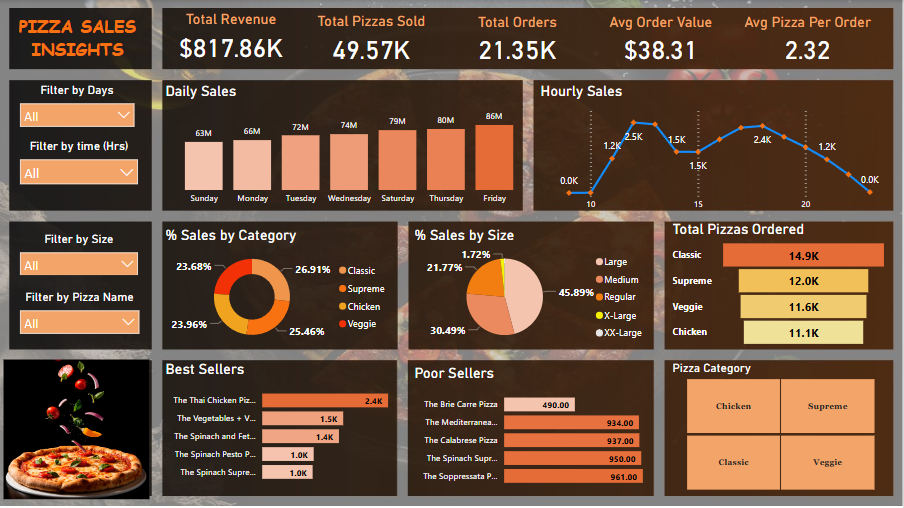

What the dashboard file says about the page in this screenshot:
{"tool":"powerbi","page":{"name":"Page 1","canvas":[1280,720],"ordinal":0},"visuals":[{"type":"card","title":"Total Revenue","fields":{"Values":["Sum(pizza_sales.total_price)"]},"box":[244,16,170,76],"z":0},{"type":"card","title":"Total Orders","fields":{"Values":["Count(pizza_sales.order_id)"]},"box":[641,20,188,72],"z":1000},{"type":"card","title":"Avg Order Value","fields":{"Values":["pizza_sales.Average_Order_Value"]},"box":[851.5,20,172,72],"z":2000},{"type":"card","title":"Total Pizzas Sold","fields":{"Values":["Sum(pizza_sales.quantity)"]},"box":[436.5,18,182,74],"z":3000},{"type":"card","title":"Avg Pizza Per Order","fields":{"Values":["pizza_sales.Average_Pizza_Per_Order"]},"box":[1046,20,200,72],"z":4000},{"type":"textbox","box":[14,16,194,76],"z":5000},{"type":"clusteredColumnChart","title":"Daily Sales","fields":{"Y":["Sum(pizza_sales.order_id)"],"Category":["pizza_sales.order_day"]},"box":[231.7,118.3,531.7,181.7],"z":6000},{"type":"lineChart","title":"Hourly Sales ","fields":{"Category":["pizza_sales.Hour"],"Y2":["Count(pizza_sales.order_id)"]},"box":[762.5,117.6,517.3,189.9],"z":7000},{"type":"slicer","title":"Filter by Days","fields":{"Values":["pizza_sales.order_day"]},"box":[20,118.3,181.7,61.7],"z":8000},{"type":"slicer","title":"Filter by time (Hrs)","fields":{"Values":["pizza_sales.Hour"]},"box":[20,196.7,186.7,91.7],"z":9000},{"type":"donutChart","title":"% Sales by Category","fields":{"Category":["pizza_sales.pizza_category"],"Y":["Sum(pizza_sales.total_price)"]},"box":[231.7,321.7,330,175],"z":10000},{"type":"pieChart","title":"% Sales by Size","fields":{"Y":["Sum(pizza_sales.total_price)"],"Category":["pizza_sales.pizza_size"]},"box":[583.3,321.7,341.7,175],"z":11000},{"type":"funnel","title":"Total Pizzas Ordered","fields":{"Category":["pizza_sales.pizza_category"],"Y":["Sum(pizza_sales.quantity)"]},"box":[949.6,313.2,314.6,182.8],"z":12000},{"type":"barChart","title":"Best Sellers","fields":{"Category":["pizza_sales.pizza_name"],"Y":["Sum(pizza_sales.quantity)"]},"box":[231,511.7,372.8,182.8],"z":13000},{"type":"slicer","title":"Pizza Category","fields":{"Values":["pizza_sales.pizza_category"]},"box":[949.6,511.7,314.6,188.5],"z":14000},{"type":"barChart","title":"Poor Sellers","fields":{"Category":["pizza_sales.pizza_name"],"Y":["Sum(pizza_sales.quantity)"]},"box":[583.9,517.3,341.6,182.8],"z":15000},{"type":"slicer","title":"Filter by Pizza Name","fields":{"Values":["pizza_sales.pizza_name"]},"box":[19.8,411,188.5,85],"z":16000},{"type":"slicer","title":"Filter by Size","fields":{"Values":["pizza_sales.pizza_size"]},"box":[19.8,328.8,187.1,60.9],"z":17000},{"type":"image","box":[1.4,504.6,216.9,208.3],"z":17001}]}

Visuals, with their boxes in screenshot pixels (x1, y1, x2, y2), scaled from the page's 1280x720 canvas onto the 904x508 screenshot:
"Total Revenue" card: pyautogui.locateOnScreen(172, 11, 292, 65)
"Total Orders" card: pyautogui.locateOnScreen(453, 14, 585, 65)
"Avg Order Value" card: pyautogui.locateOnScreen(601, 14, 723, 65)
"Total Pizzas Sold" card: pyautogui.locateOnScreen(308, 13, 437, 65)
"Avg Pizza Per Order" card: pyautogui.locateOnScreen(739, 14, 880, 65)
textbox: pyautogui.locateOnScreen(10, 11, 147, 65)
"Daily Sales" clusteredColumnChart: pyautogui.locateOnScreen(164, 83, 539, 212)
"Hourly Sales " lineChart: pyautogui.locateOnScreen(539, 83, 903, 217)
"Filter by Days" slicer: pyautogui.locateOnScreen(14, 83, 142, 127)
"Filter by time (Hrs)" slicer: pyautogui.locateOnScreen(14, 139, 146, 203)
"% Sales by Category" donutChart: pyautogui.locateOnScreen(164, 227, 397, 350)
"% Sales by Size" pieChart: pyautogui.locateOnScreen(412, 227, 653, 350)
"Total Pizzas Ordered" funnel: pyautogui.locateOnScreen(671, 221, 893, 350)
"Best Sellers" barChart: pyautogui.locateOnScreen(163, 361, 426, 490)
"Pizza Category" slicer: pyautogui.locateOnScreen(671, 361, 893, 494)
"Poor Sellers" barChart: pyautogui.locateOnScreen(412, 365, 654, 494)
"Filter by Pizza Name" slicer: pyautogui.locateOnScreen(14, 290, 147, 350)
"Filter by Size" slicer: pyautogui.locateOnScreen(14, 232, 146, 275)
image: pyautogui.locateOnScreen(1, 356, 154, 503)
